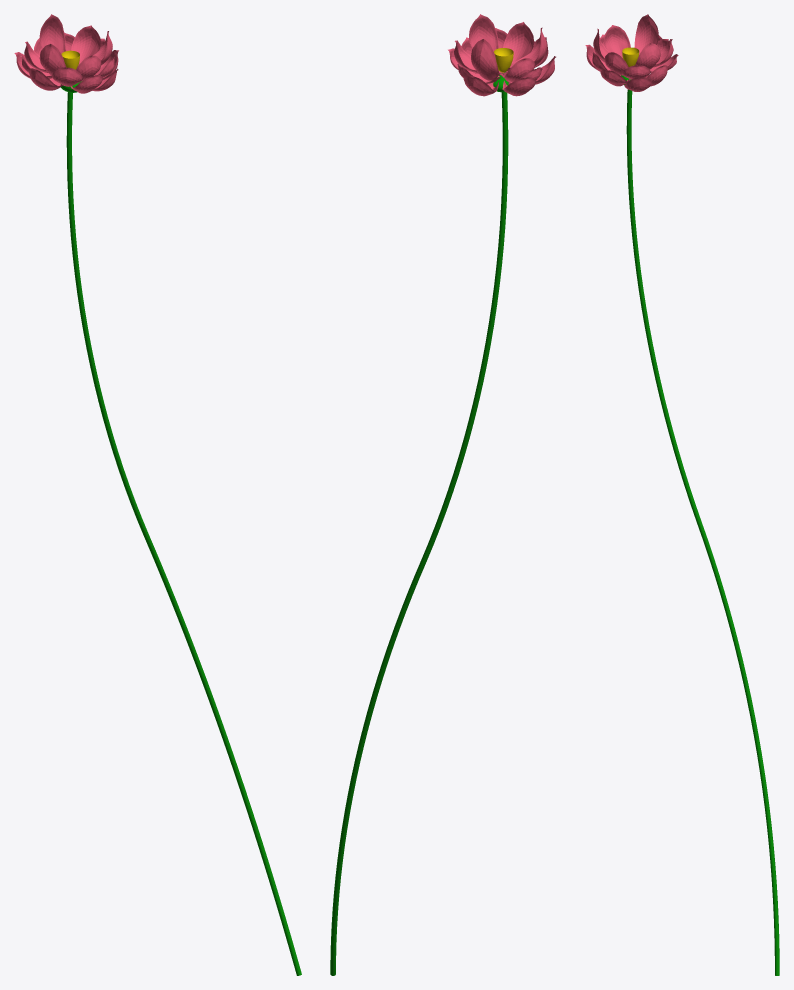
Rendered from Lotus065.fbx.
3 renders of one model, left to right at view 1: azimuth 30°, elevation 25°; view 2: azimuth 150°, elevation 25°; view 3: azimuth 330°, elevation 25°, orthographic. The views are drawn at different scales.
Parts seen in each view (by area): view 1: pCylinder5, nurbsToPoly23, nurbsToPoly19; view 2: pCylinder5, nurbsToPoly23, nurbsToPoly18, nurbsToPoly22; view 3: pCylinder5, nurbsToPoly23, nurbsToPoly20, nurbsToPoly22.
Part boxes in pixels (x1,y1,x2,y2): pCylinder5: [66, 92, 301, 975]; nurbsToPoly23: [39, 14, 66, 53]; nurbsToPoly19: [71, 25, 100, 62]; pCylinder5: [330, 92, 508, 975]; nurbsToPoly23: [471, 39, 500, 80]; nurbsToPoly18: [503, 22, 533, 62]; nurbsToPoly22: [469, 14, 499, 51]; pCylinder5: [626, 89, 779, 975]; nurbsToPoly23: [634, 14, 658, 54]; nurbsToPoly20: [604, 25, 630, 57]; nurbsToPoly22: [633, 43, 660, 69].
Bounding box in the file's own units: 52.48 × 202 × 24.34.
